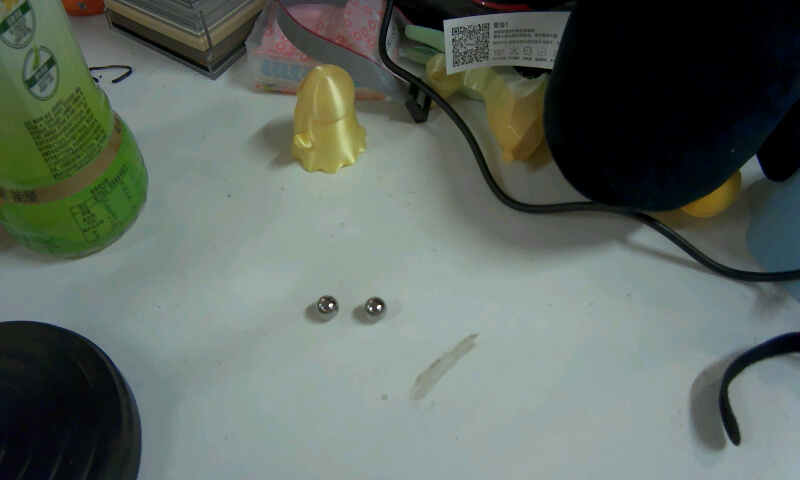steelball: (311, 289, 346, 324), (360, 292, 394, 325)
